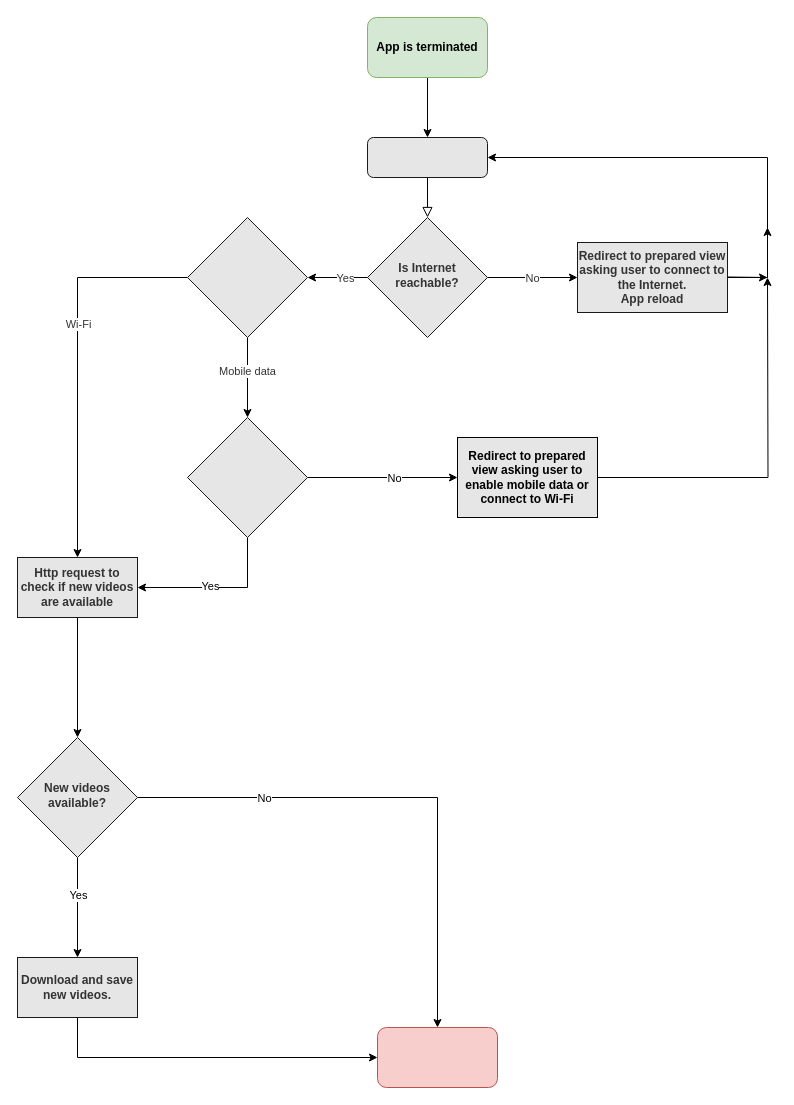
The diagram is 794 pixels wide and 1105 high, and some of its shapes have lost their labels. Here are the shapes that lost their labels. From the top down, the box of each, then its label:
(366, 136, 488, 178): Starting the app
(186, 216, 308, 338): Is it Wi-Fi connection or mobile data?
(186, 416, 308, 538): Is mobile data enabled?
(376, 1026, 498, 1088): End
